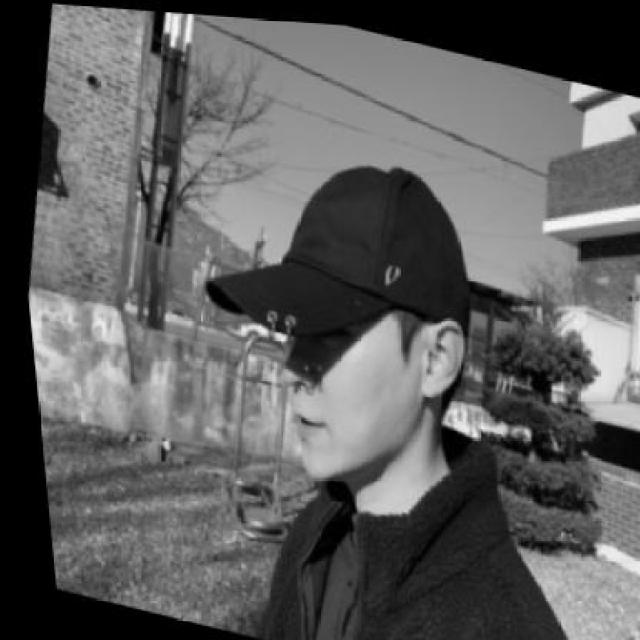hat: (174, 112, 497, 383)
